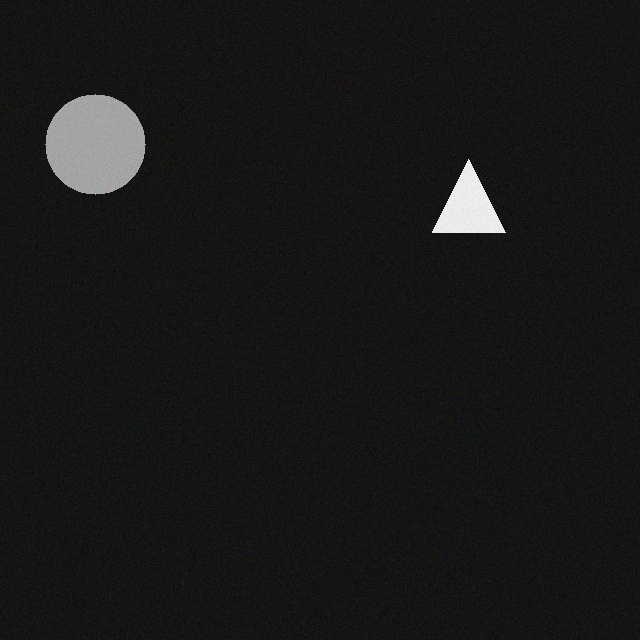circle: (54, 103, 154, 203)
triangle: (441, 168, 514, 241)
